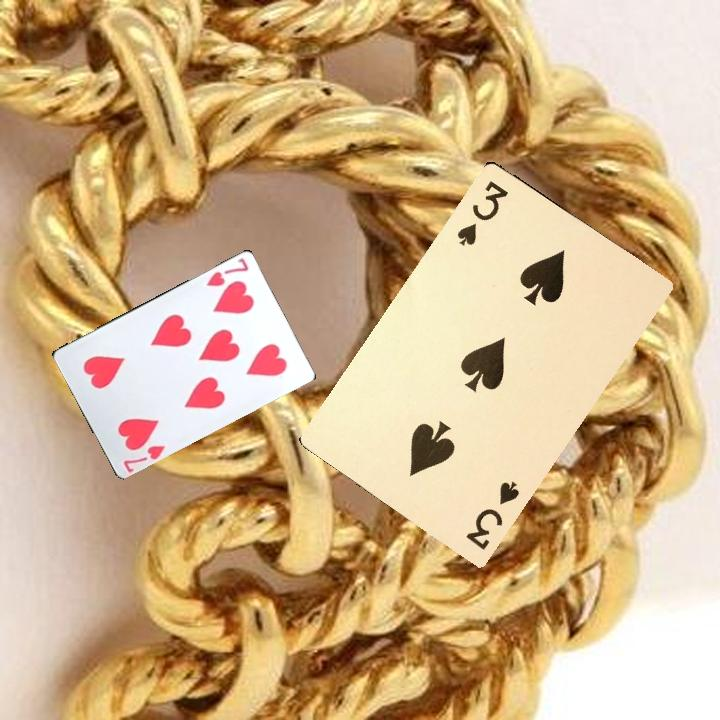3s: (462, 477, 522, 553), (453, 176, 511, 249)
7h: (201, 254, 251, 289), (119, 441, 167, 474)
